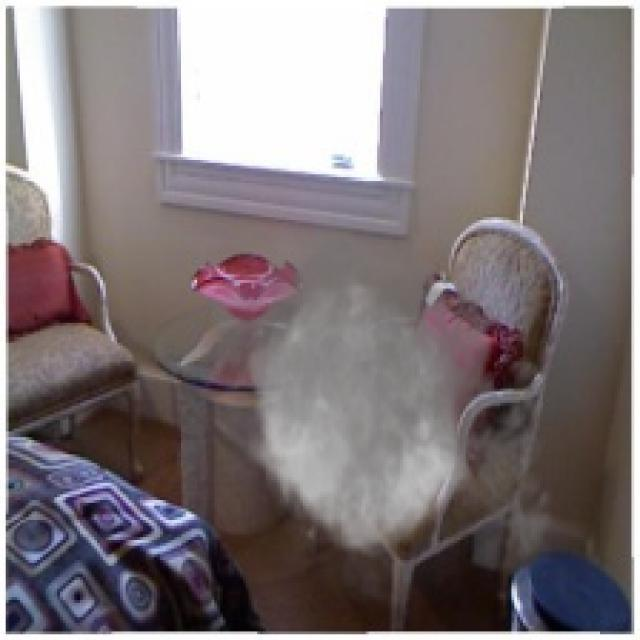Smoke: (197, 202, 563, 628)
